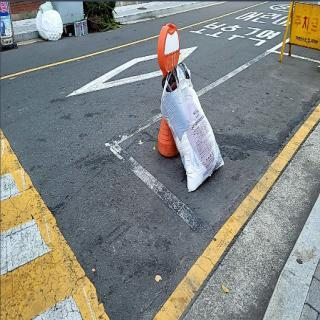Garbage: (158, 55, 229, 193)
